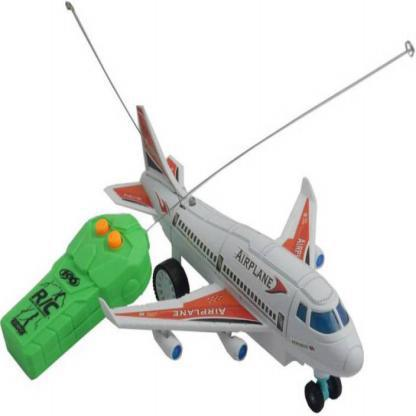CIV_Plane: (82, 103, 366, 412)
